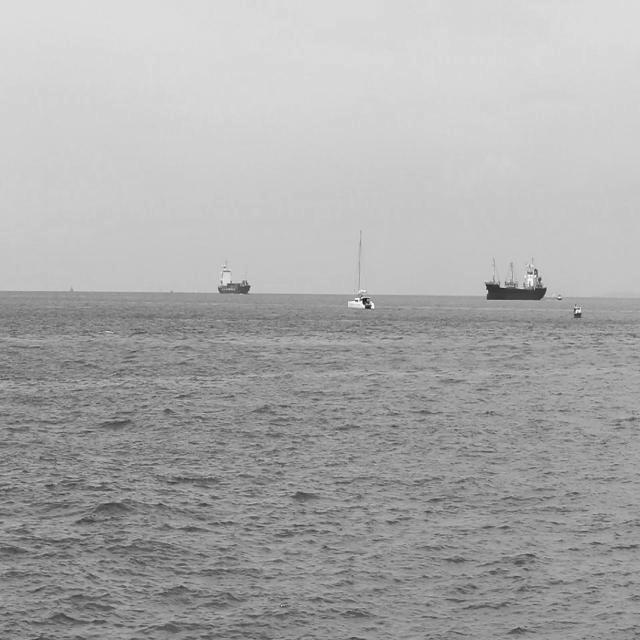ship: (484, 257, 547, 301), (346, 228, 376, 311), (216, 258, 252, 296), (572, 302, 582, 319), (552, 293, 564, 301)
